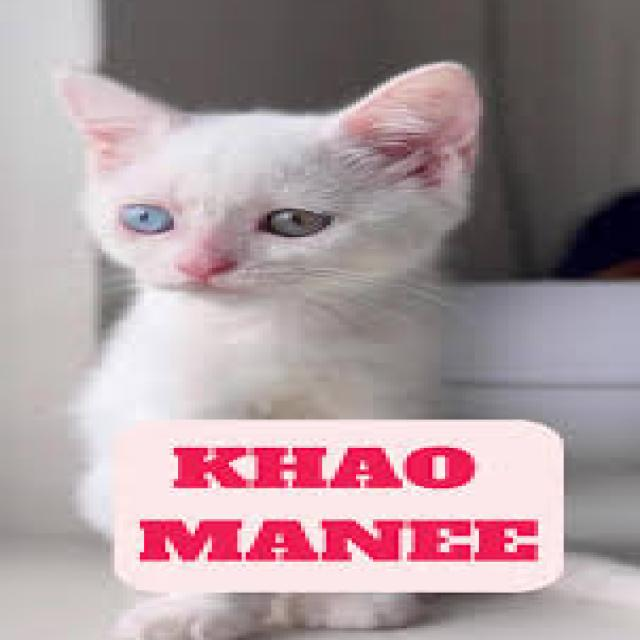Khao Manee: (47, 58, 488, 419)
